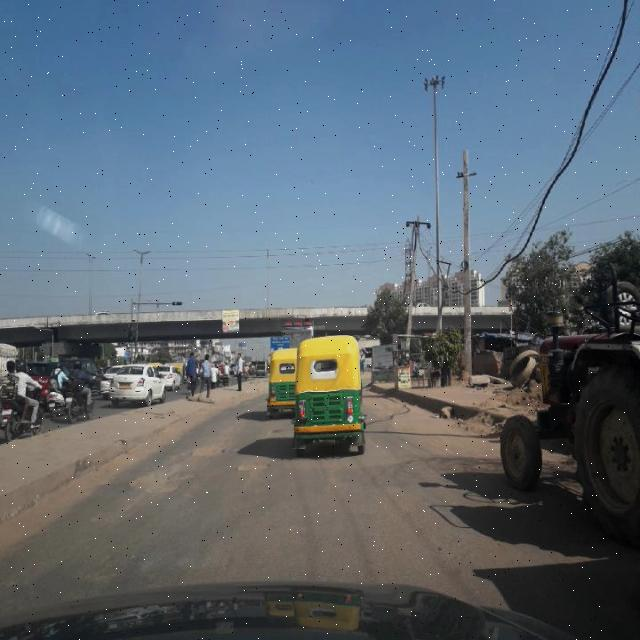D40: (123, 462, 205, 503), (234, 452, 276, 478), (185, 434, 227, 459)
